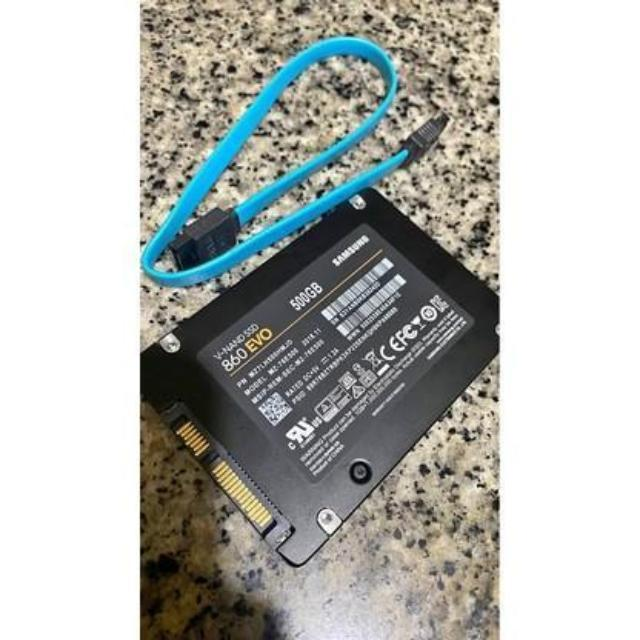DISK: (136, 171, 507, 569)
